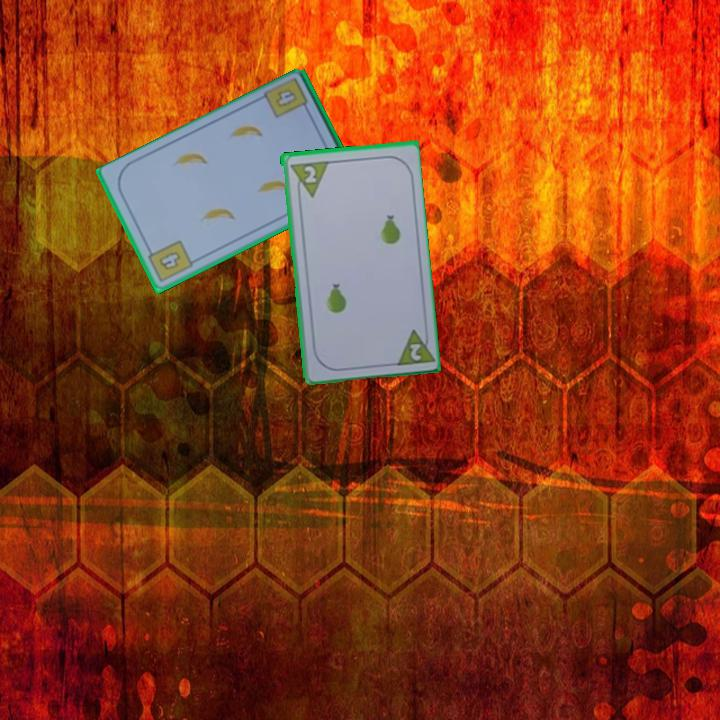2p: (300, 162, 319, 186), (406, 339, 424, 363)
4b: (143, 237, 196, 285), (272, 85, 300, 111)
